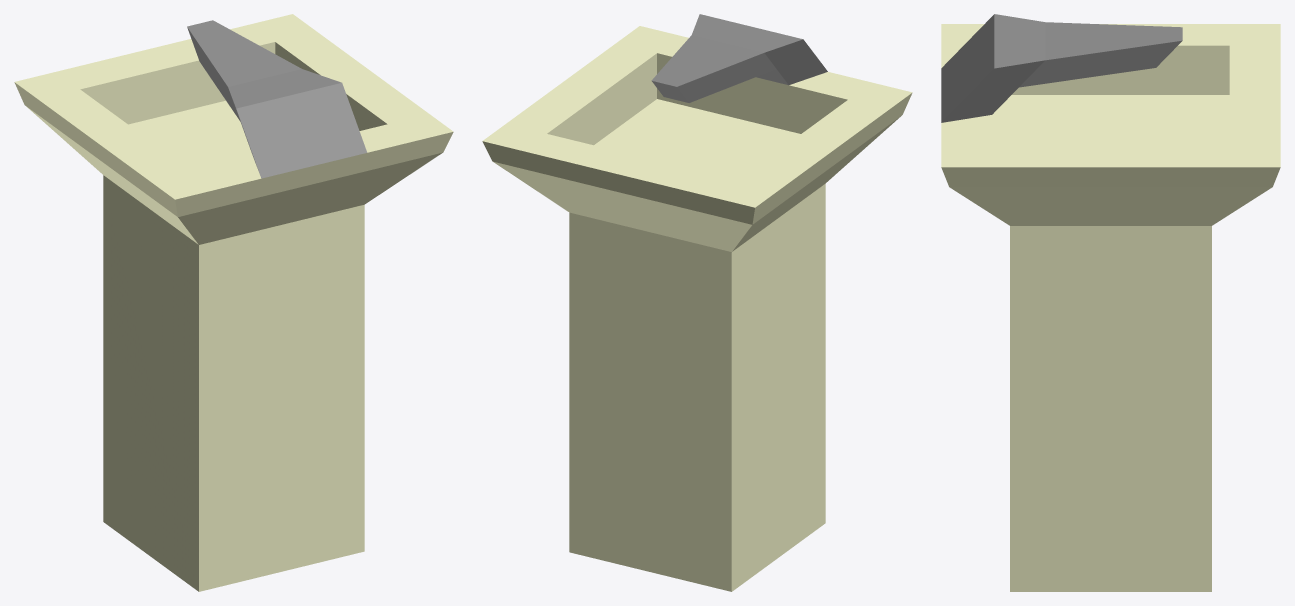
File: lavamanos.fbx
3 renders of one model, left to right at view 1: azimuth 30°, elevation 25°; view 2: azimuth 150°, elevation 25°; view 3: azimuth 270°, elevation 25°, orthographic. The views are drawn at different scales.
Visible parts, largest first — view 1: washbasin; view 2: washbasin; view 3: washbasin.
Part boxes in pixels (bbox=[...]): washbasin: bbox=[14, 14, 453, 591]; washbasin: bbox=[482, 14, 912, 591]; washbasin: bbox=[941, 14, 1280, 591].
Size of the model in its own units: 1.68 by 1.68 by 2.82.
